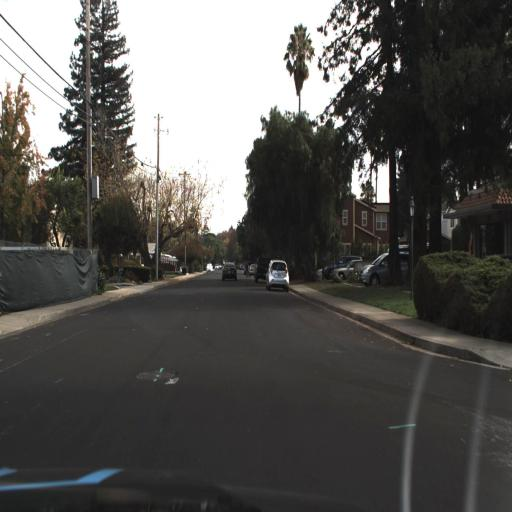car: (359, 246, 413, 291), (358, 253, 411, 284), (327, 257, 363, 287), (262, 258, 292, 291), (263, 258, 291, 291), (253, 254, 273, 287), (219, 259, 239, 286), (483, 259, 505, 281), (320, 256, 338, 282), (221, 262, 236, 282)
